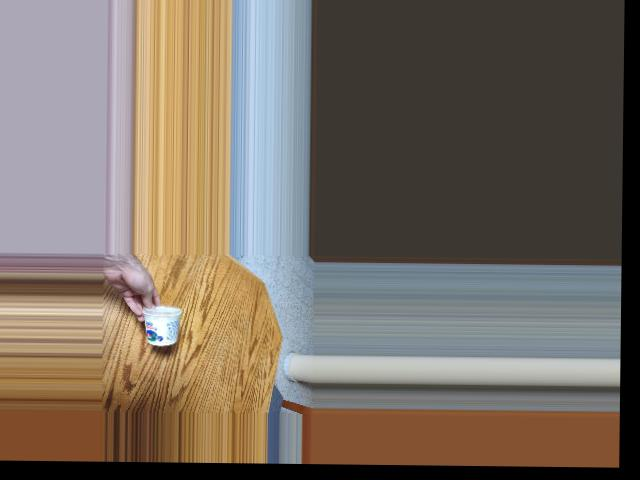cotage: (144, 302, 191, 350)
